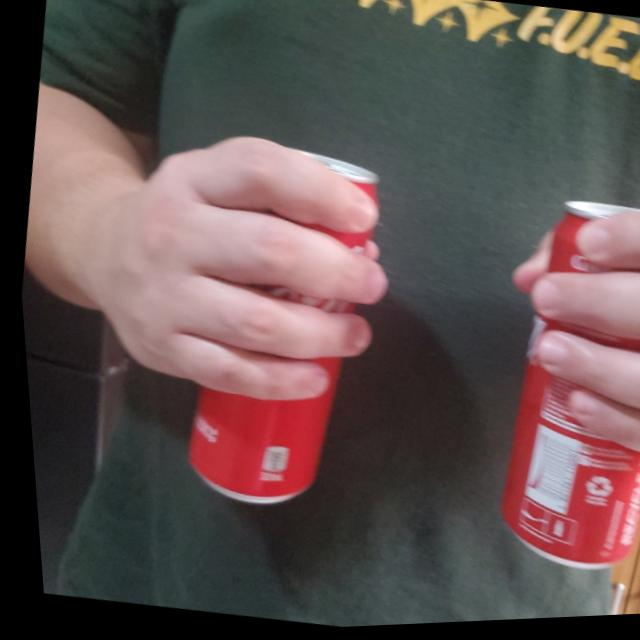coke: (156, 143, 396, 526), (465, 198, 640, 591)
